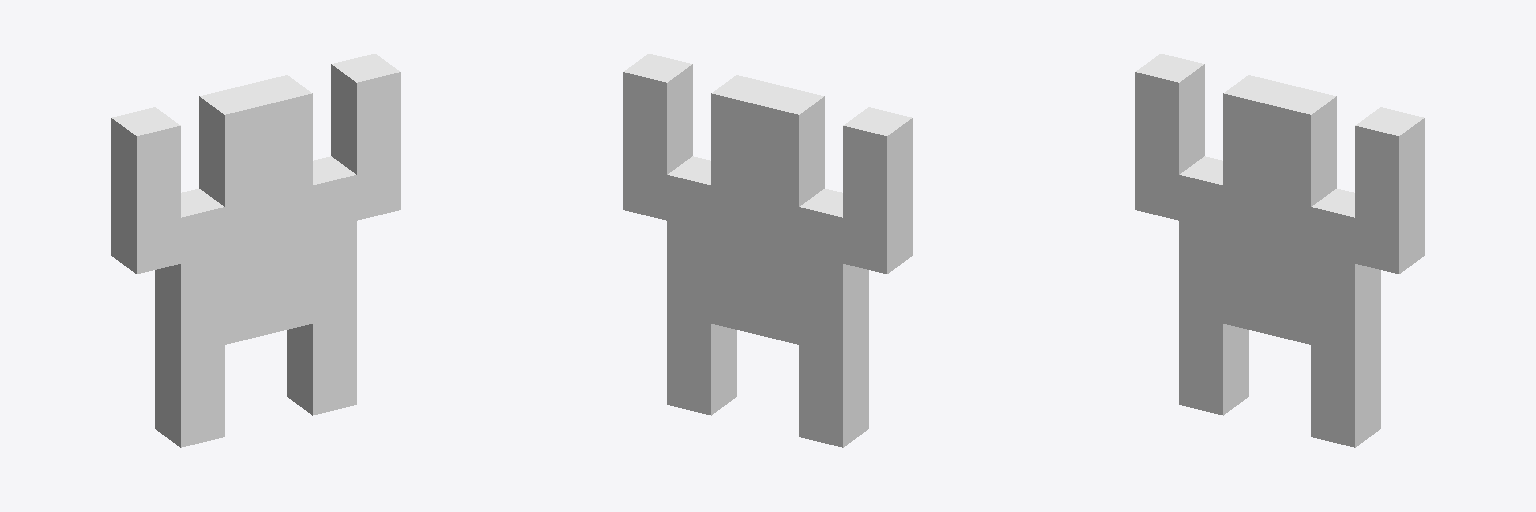
File: survivor.obj
The picture shows the model from 3 angles: view 1: azimuth 30°, elevation 25°; view 2: azimuth 150°, elevation 25°; view 3: azimuth 330°, elevation 25°; orthographic projection.
Bounding box in the file's own units: 6 × 7 × 1.